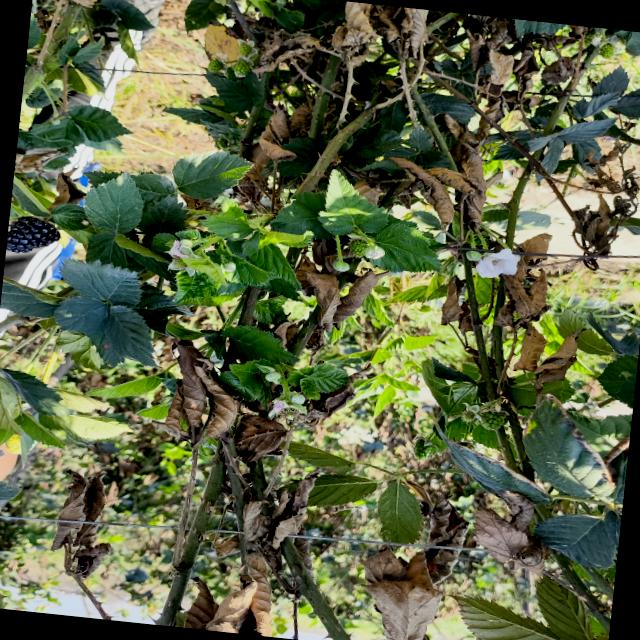boton: (364, 244, 384, 259), (265, 371, 282, 383), (333, 260, 349, 272), (290, 393, 305, 404), (221, 261, 235, 272)
flor: (475, 248, 519, 277)
